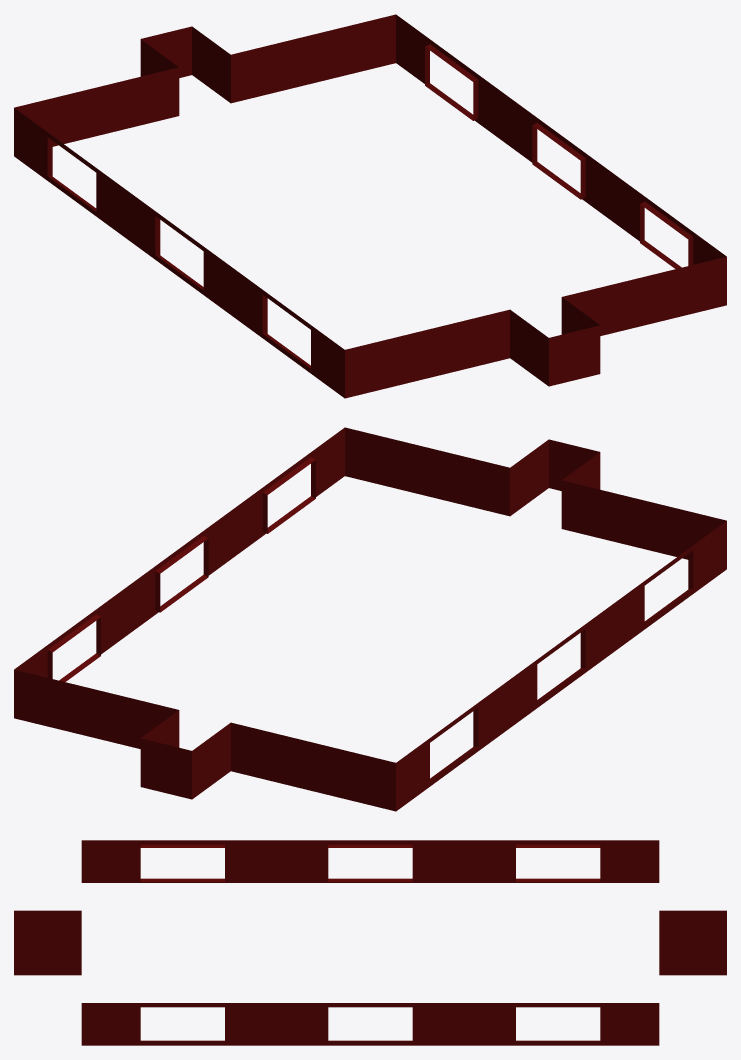
Rendered from DummyWall.FBX.
3 views of the same model, one above another, from view 1: azimuth 30°, elevation 25°; view 2: azimuth 150°, elevation 25°; view 3: azimuth 270°, elevation 25° (orthographic). The views are drawn at different scales.
Parts seen in each view (by area): view 1: DummyWall; view 2: DummyWall; view 3: DummyWall.
Part boxes in pixels (x1=…): DummyWall: x1=14, y1=14, x2=726, y2=398; DummyWall: x1=14, y1=427, x2=726, y2=811; DummyWall: x1=14, y1=840, x2=726, y2=1045.
Bounding box in the file's own units: 41057 × 5000 × 76000.
